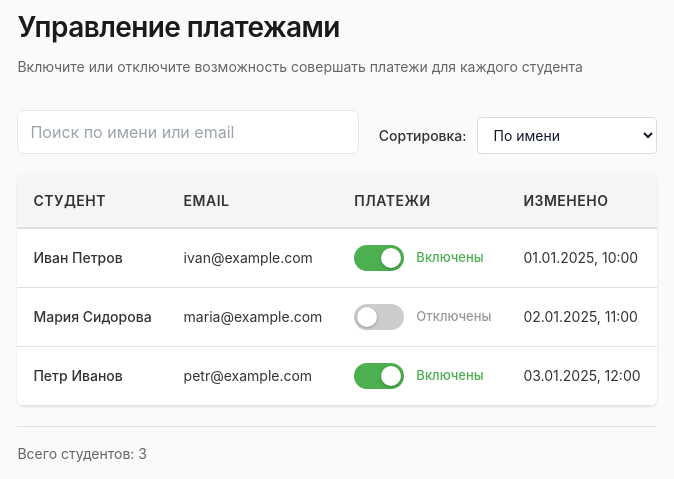
Test: PaymentSettings › Search Functionality › should filter students by email
Type "maria@example.com" into the field with test id "search-input".
click(188, 132); type("maria@example.com")  # box [17,110,359,154]
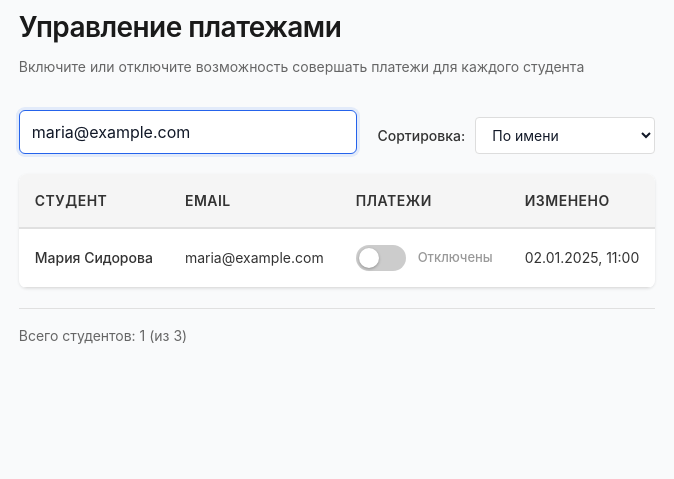
Expected: the text "Мария Сидорова" is shown, [19,228,169,287]
Result: the text "Иван Петров" is gone
Result: the text "Всего студентов: 1 (из 3)" is shown at [19,327,187,344]
